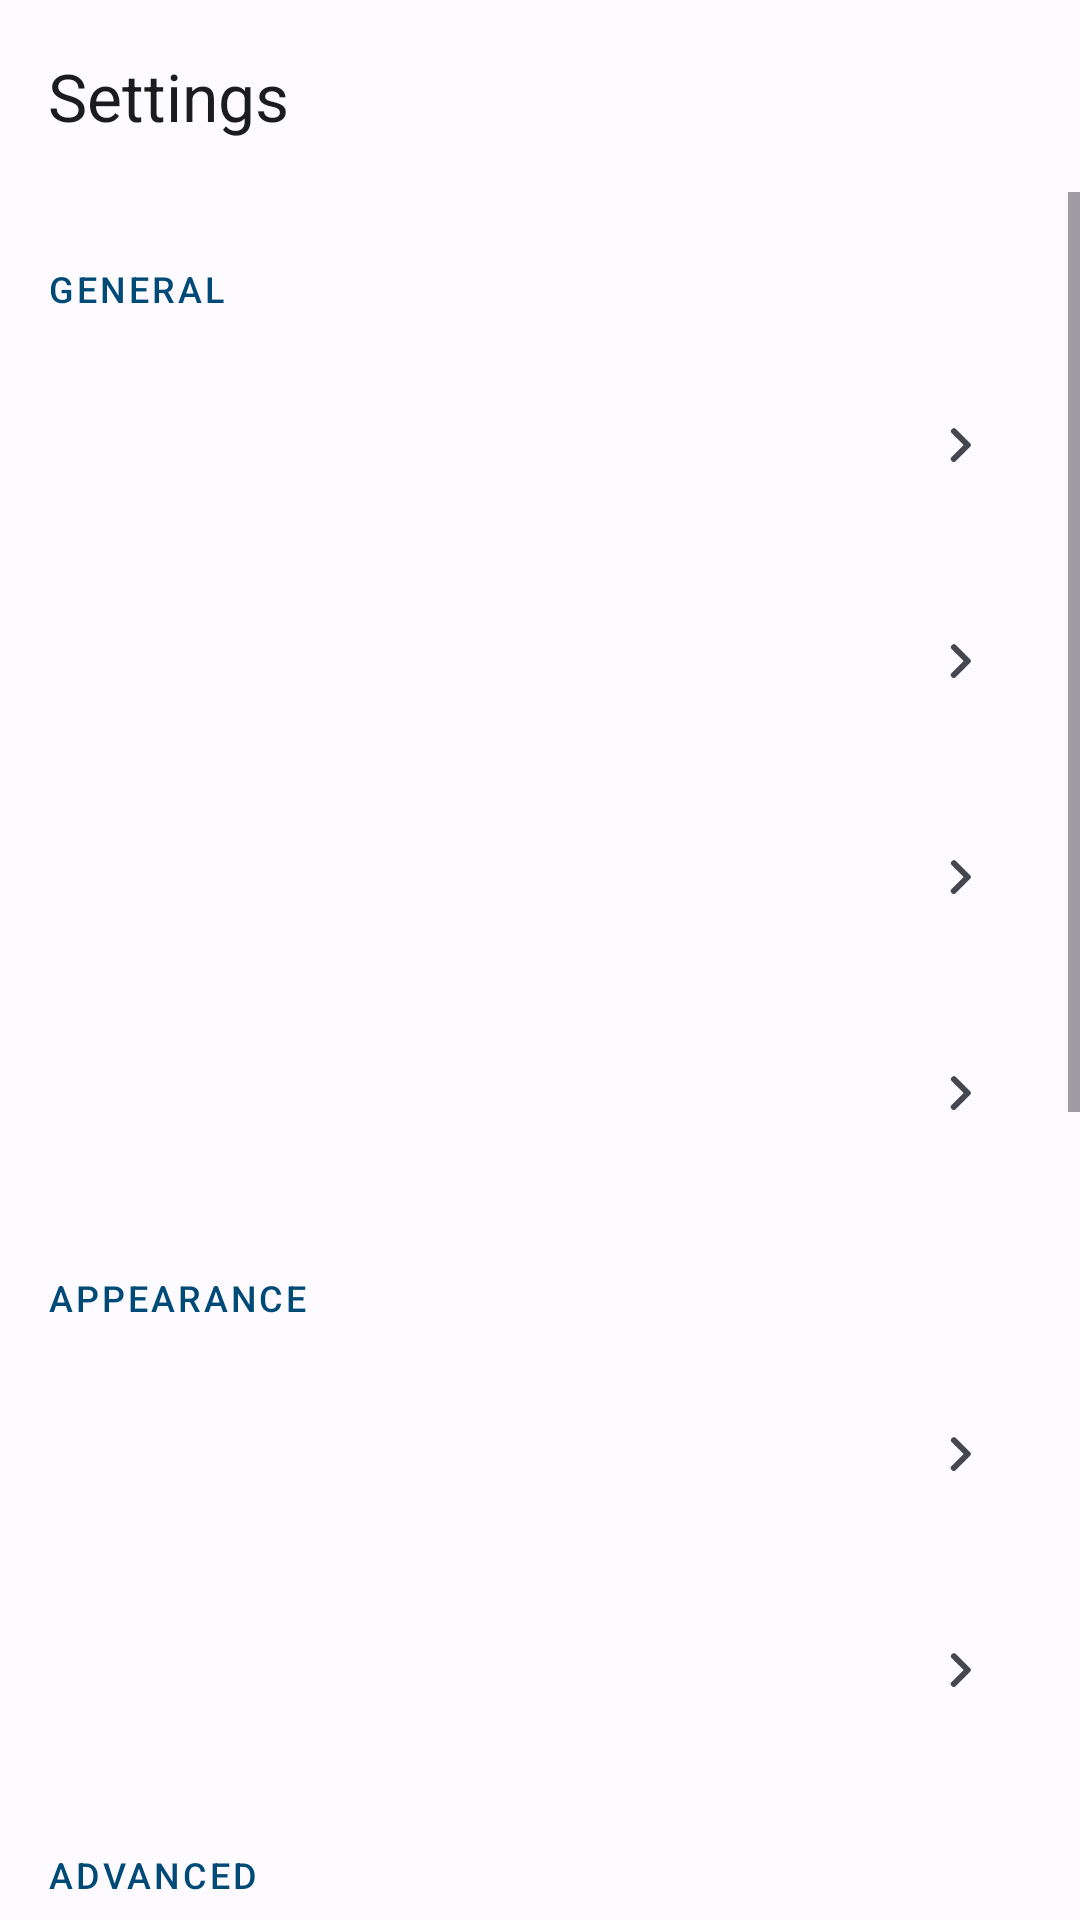

Where icons sit on this 1080x1920 app screen, as (x1, y1, x2, y2):
chevron right: (950, 428, 971, 462), (950, 644, 971, 678), (950, 860, 971, 894), (950, 1076, 971, 1110), (950, 1437, 971, 1471), (950, 1653, 971, 1687)
